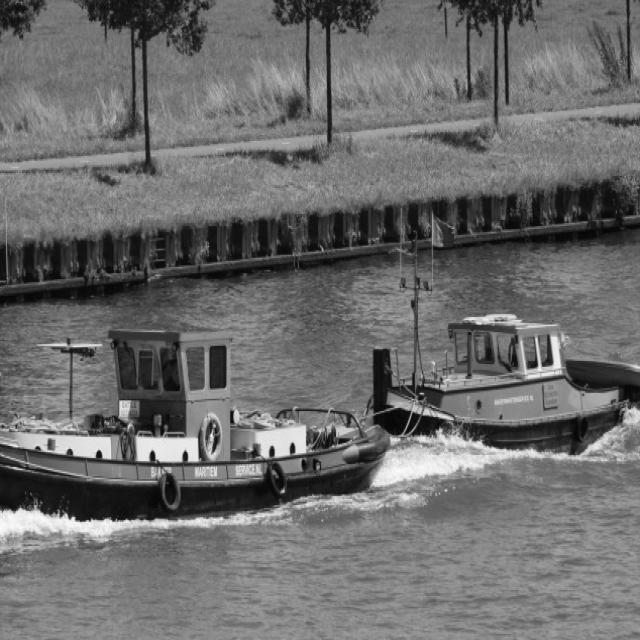tugboat: (1, 195, 393, 535), (370, 273, 640, 474)
